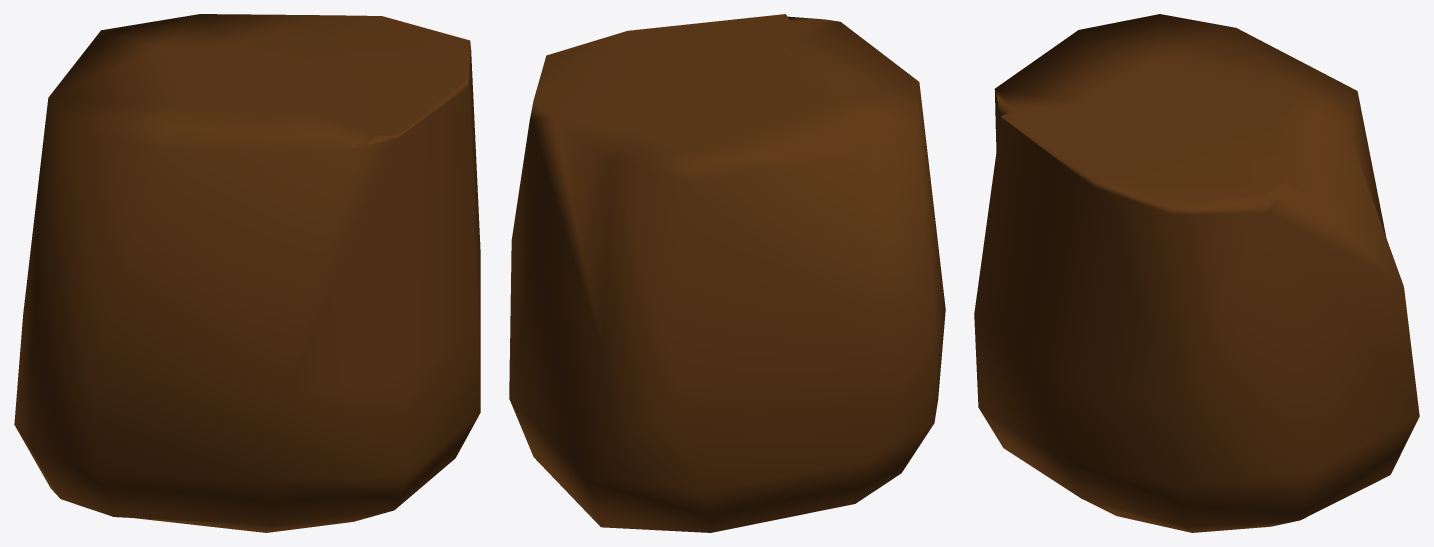
The model's file is tronco.fbx.
3 renders of one model, left to right at view 1: azimuth 30°, elevation 25°; view 2: azimuth 150°, elevation 25°; view 3: azimuth 270°, elevation 25°, orthographic. The views are drawn at different scales.
Parts seen in each view (by area): view 1: PALITO2; view 2: PALITO2; view 3: PALITO2.
Part boxes in pixels (x1,y1,x2,y2): PALITO2: [14, 14, 480, 532]; PALITO2: [509, 14, 945, 532]; PALITO2: [974, 14, 1419, 532].
Bounding box in the file's own units: 239 × 223 × 231.
